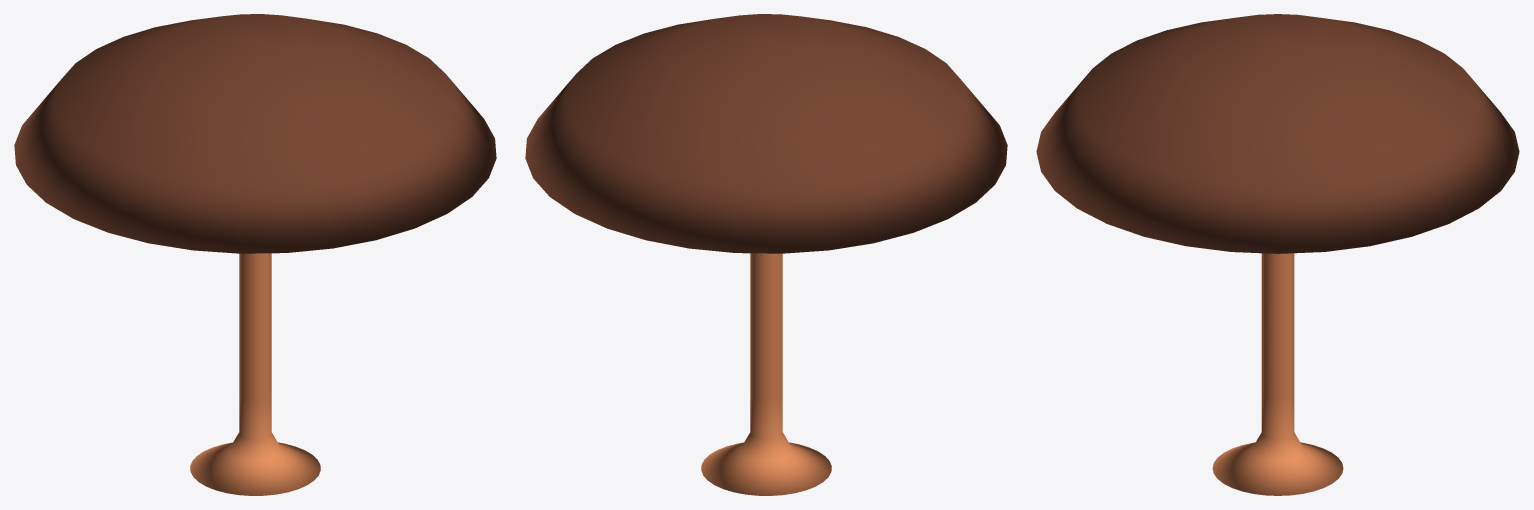
Rendered from champignon005.fbx.
3 renders of one model, left to right at view 1: azimuth 30°, elevation 25°; view 2: azimuth 150°, elevation 25°; view 3: azimuth 270°, elevation 25°, orthographic.
Parts seen in each view (by area): view 1: Cylinder; view 2: Cylinder; view 3: Cylinder.
Boxes of the visible parts, <box> form: Cylinder: <box>14,14,496,495</box>; Cylinder: <box>525,14,1007,495</box>; Cylinder: <box>1036,14,1519,495</box>.
Bounding box in the file's own units: 148 × 144 × 148.
